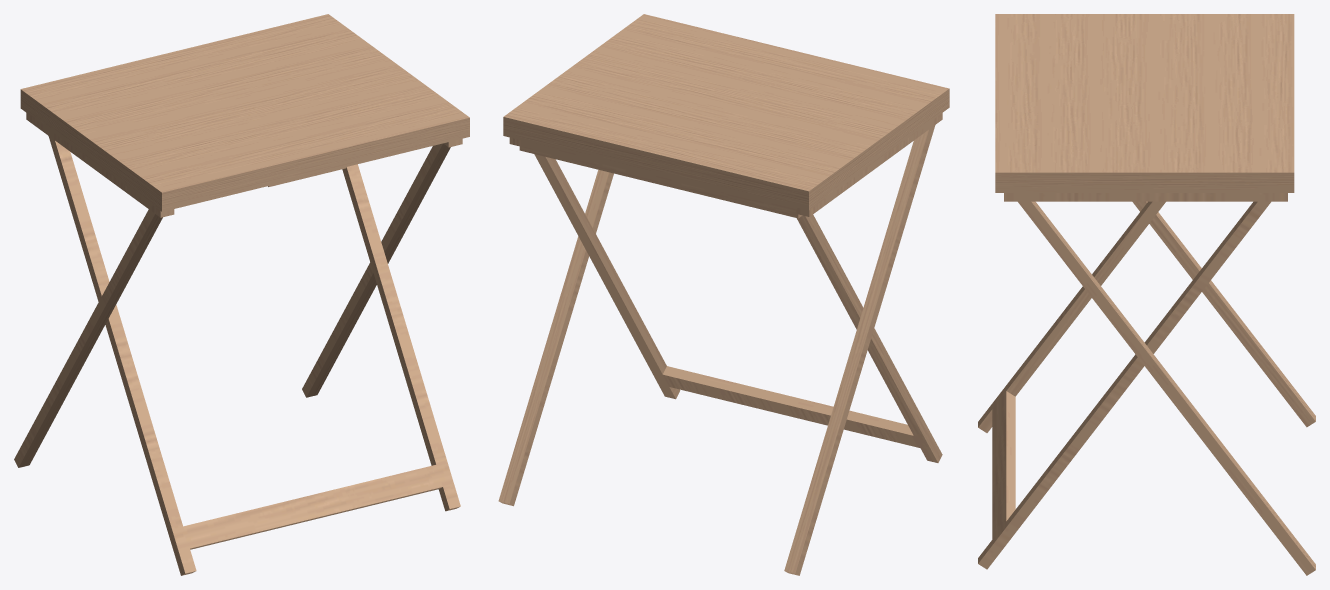
Rendered from Tv_Tray_A.FBX.
The picture shows the model from 3 angles, left to right: view 1: azimuth 30°, elevation 25°; view 2: azimuth 150°, elevation 25°; view 3: azimuth 270°, elevation 25°; orthographic projection. The views are drawn at different scales.
Parts seen in each view (by area): view 1: Tv_Tray; view 2: Tv_Tray; view 3: Tv_Tray.
Part boxes in pixels (box(x1,y1,x2,y2)): Tv_Tray: box(14, 14, 469, 575); Tv_Tray: box(498, 14, 949, 575); Tv_Tray: box(978, 14, 1315, 575).
Bounding box in the file's own units: 100 × 120 × 90.36.
